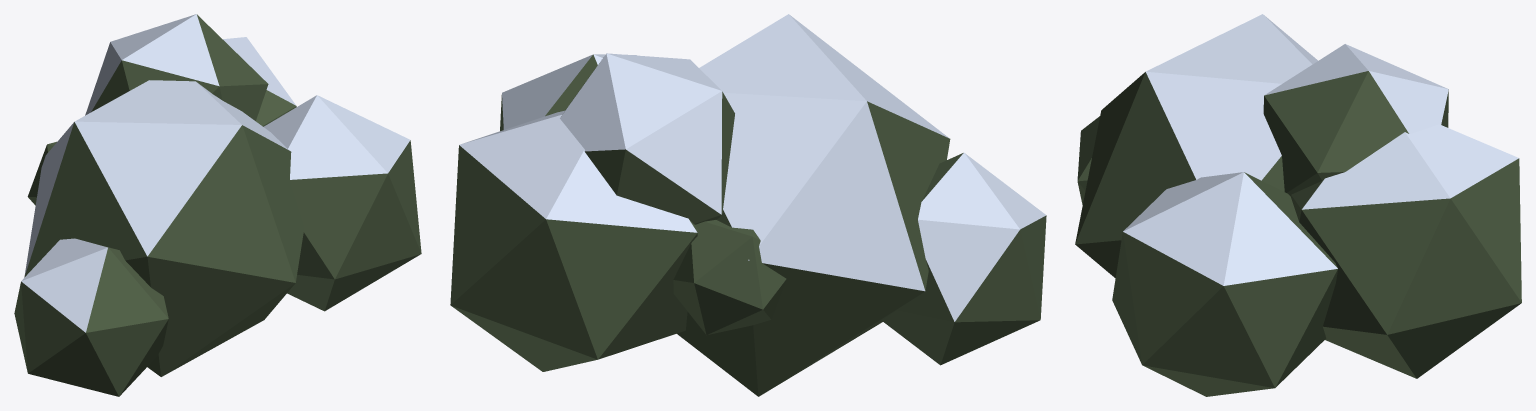
Rendered from rock_snow_2.fbx.
3 renders of one model, left to right at view 1: azimuth 30°, elevation 25°; view 2: azimuth 150°, elevation 25°; view 3: azimuth 270°, elevation 25°, orthographic. The views are drawn at different scales.
Parts seen in each view (by area): view 1: rock_1, rock.004, rock.002, rock.006, rock.005, rock.007; view 2: rock_1, rock.005, rock.002, rock.006, rock.007, rock.004; view 3: rock.005, rock.004, rock_1, rock.006, rock.002.
Part boxes in pixels (<box>): rock_1: <box>24,80,304,376</box>; rock.004: <box>264,95,421,311</box>; rock.002: <box>14,238,168,396</box>; rock.006: <box>85,14,268,121</box>; rock.005: <box>223,37,296,126</box>; rock.007: <box>27,141,56,205</box>; rock_1: <box>677,14,950,396</box>; rock.005: <box>450,110,697,371</box>; rock.002: <box>881,152,1046,365</box>; rock.006: <box>560,53,734,224</box>; rock.007: <box>673,220,786,335</box>; rock.004: <box>500,54,636,130</box>; rock.005: <box>1290,124,1521,378</box>; rock.004: <box>1112,172,1337,396</box>; rock_1: <box>1075,14,1317,278</box>; rock.006: <box>1263,44,1448,195</box>; rock.002: <box>1077,116,1099,204</box>.
Size of the model in its own units: 6.41 by 3.94 by 5.27.
